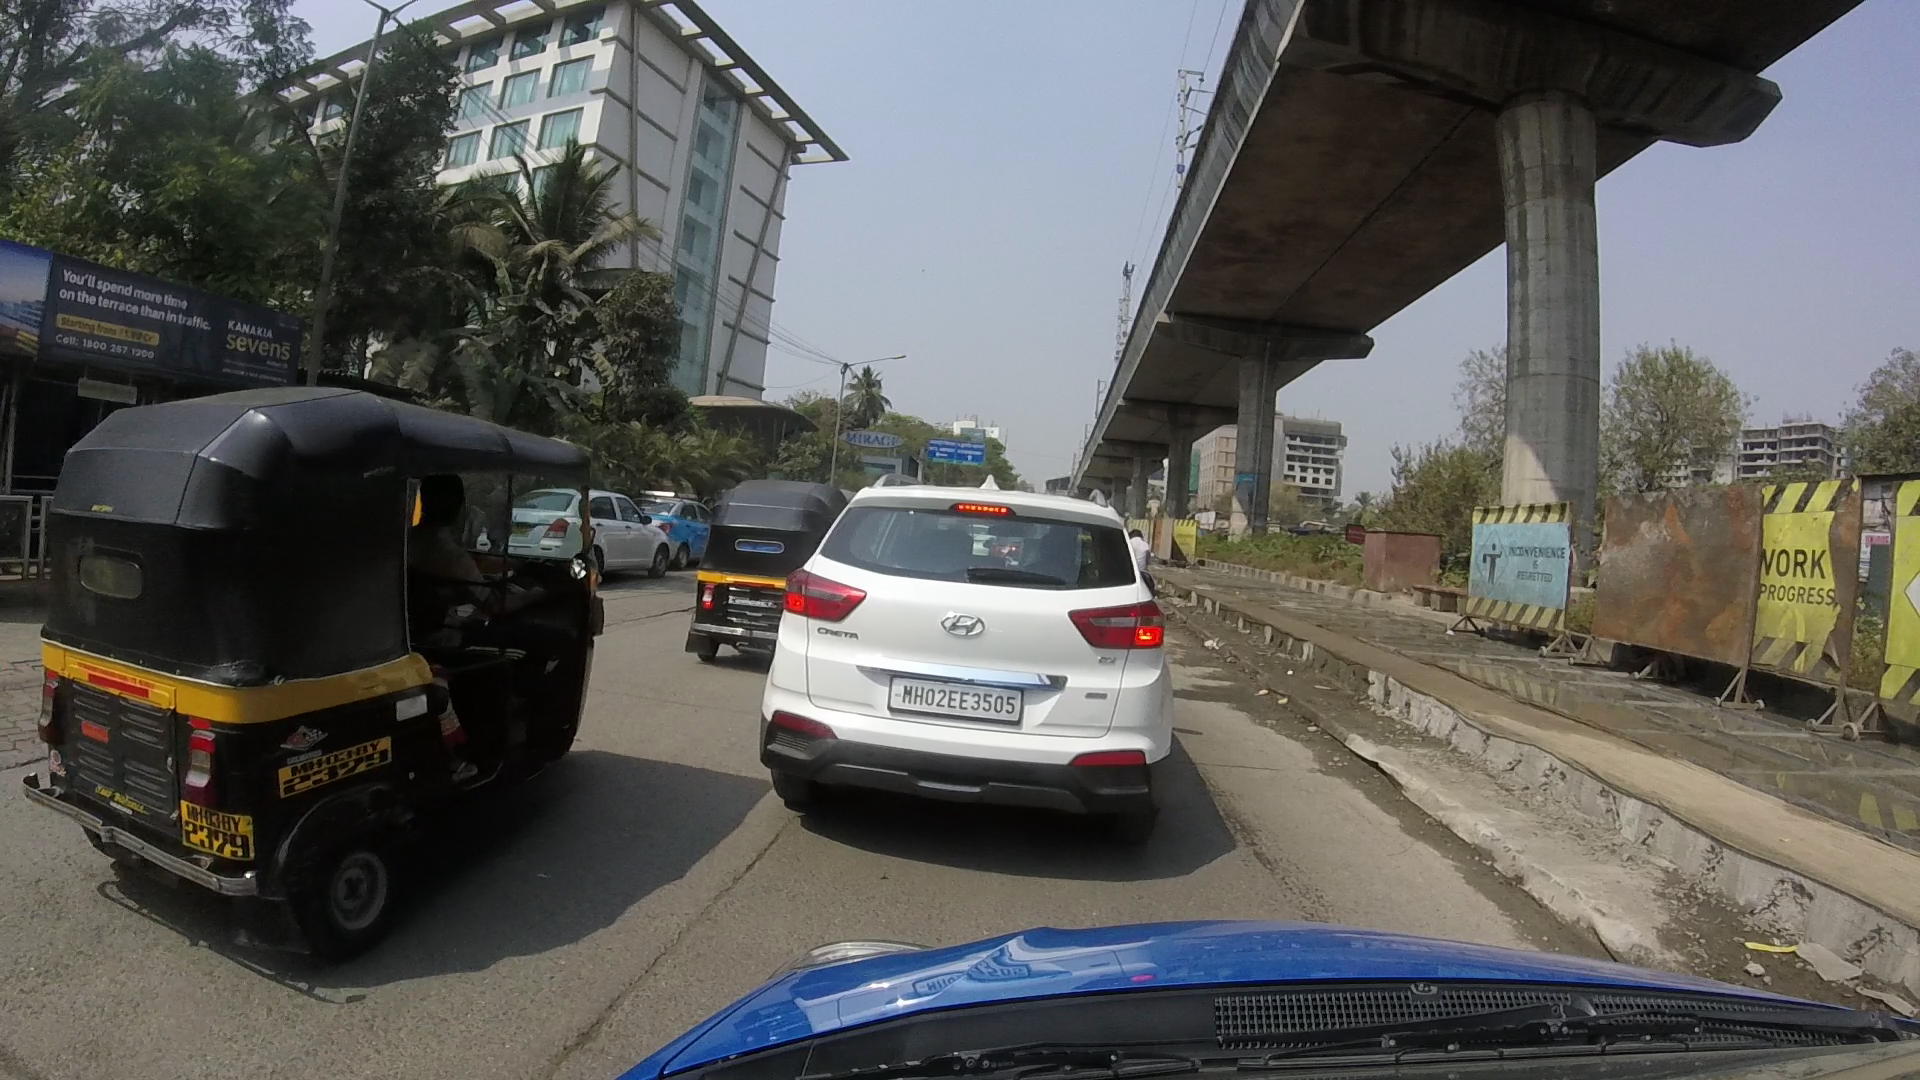car: (762, 481, 1183, 804), (498, 442, 669, 585)
rickshaw: (1, 348, 589, 931), (676, 440, 827, 657)
